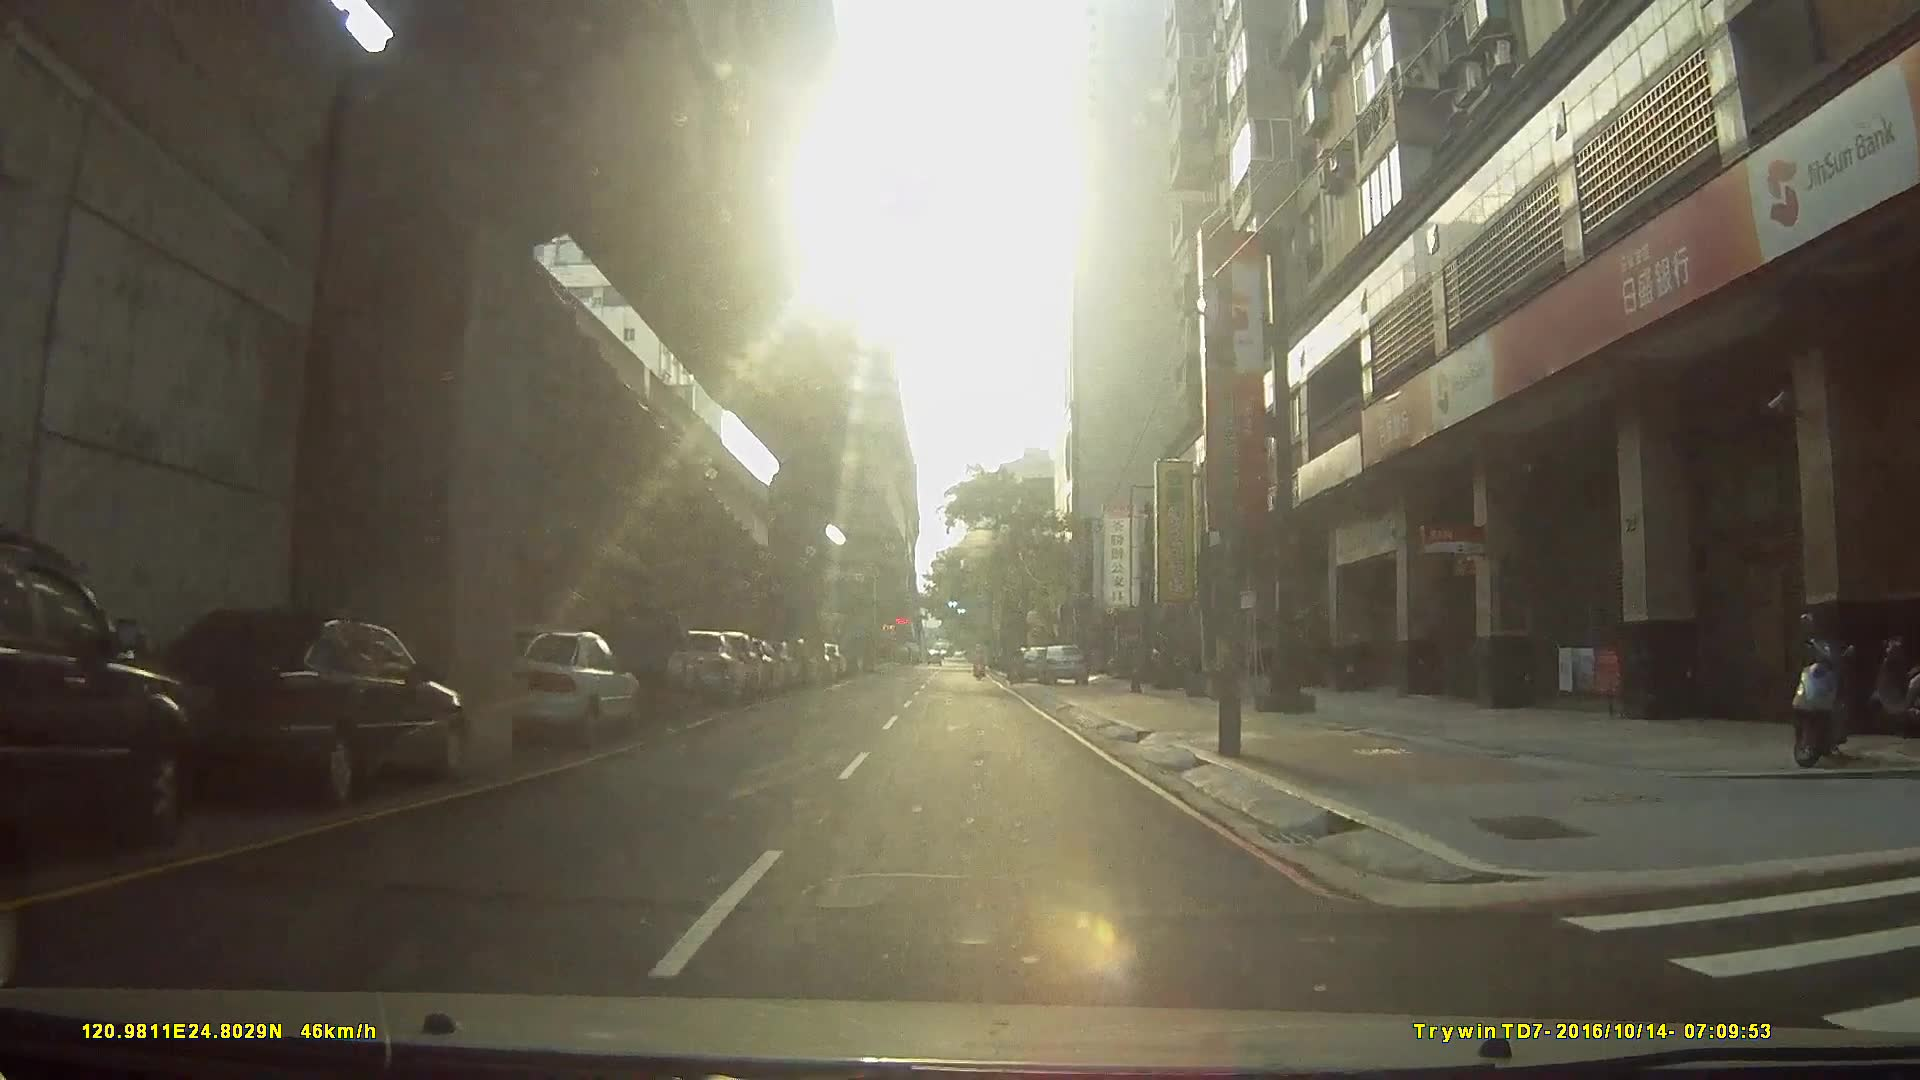vehicle: (112, 604, 472, 812), (0, 527, 193, 876), (477, 621, 642, 745), (566, 609, 698, 717), (659, 620, 794, 670), (1033, 641, 1091, 686)
